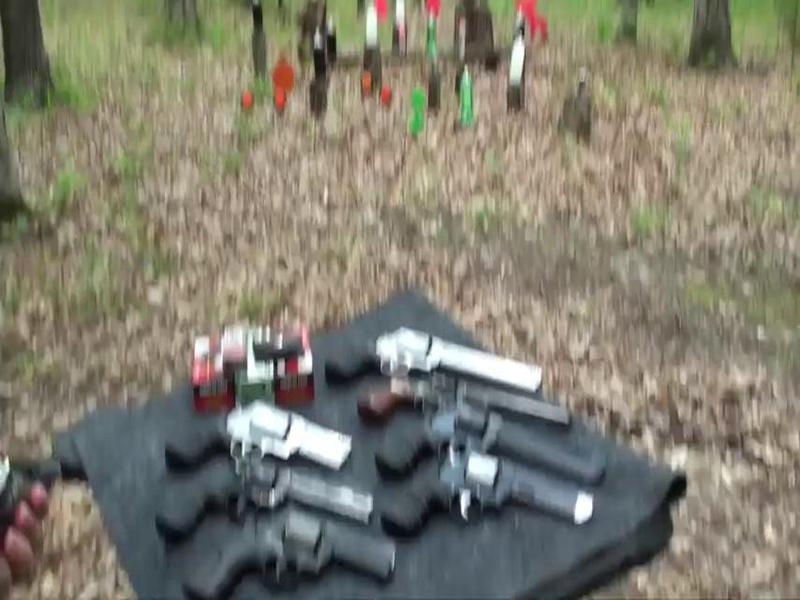Revolver: (147, 385, 372, 484)
